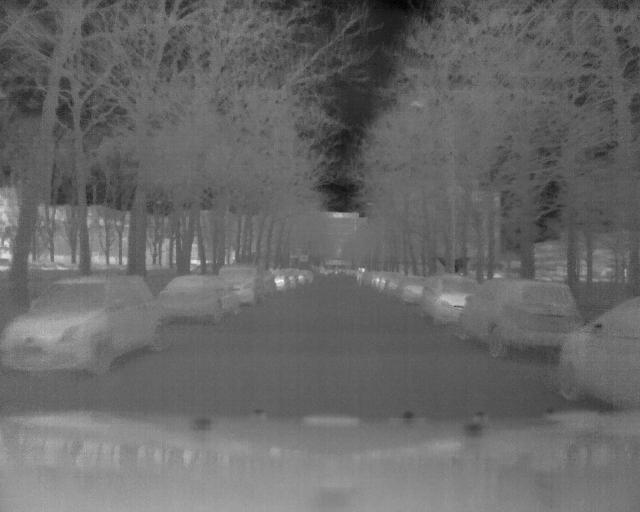car: (3, 273, 161, 368), (566, 274, 637, 408), (464, 270, 572, 343), (170, 275, 235, 316), (424, 270, 450, 329), (238, 267, 278, 301), (364, 269, 390, 298), (282, 269, 315, 291), (399, 274, 420, 303)
